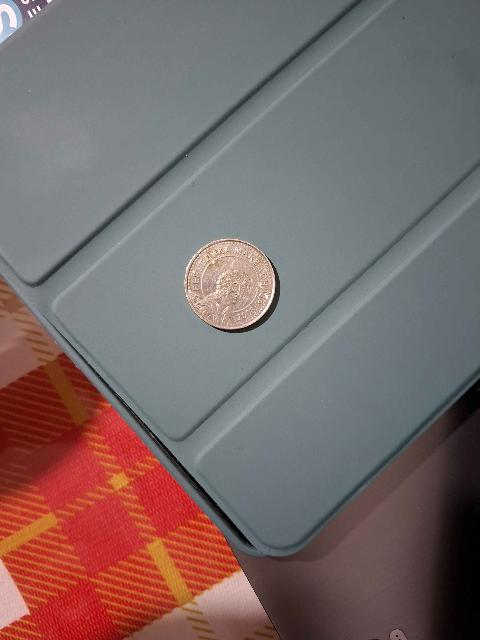coin: (183, 237, 278, 332)
